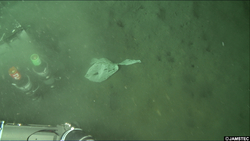plastic bag: (83, 55, 142, 84)
